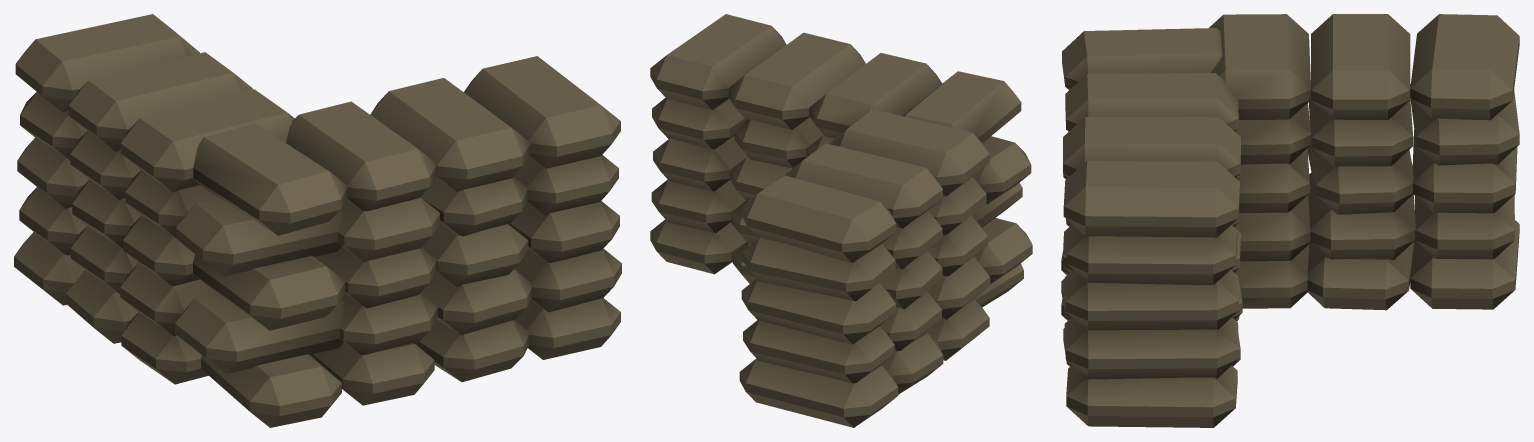
File: sandbag_corner.glb
The picture shows the model from 3 angles, left to right: view 1: azimuth 30°, elevation 25°; view 2: azimuth 150°, elevation 25°; view 3: azimuth 270°, elevation 25°; orthographic projection. The views are drawn at different scales.
Parts seen in each view (by area): view 1: SandbagCorner; view 2: SandbagCorner; view 3: SandbagCorner.
Part boxes in pixels (x1,y1,x2,y2): SandbagCorner: (14,14,621,427); SandbagCorner: (650,14,1032,427); SandbagCorner: (1061,14,1519,427).
Bounding box in the file's own units: 1.5 × 0.86 × 1.49.
